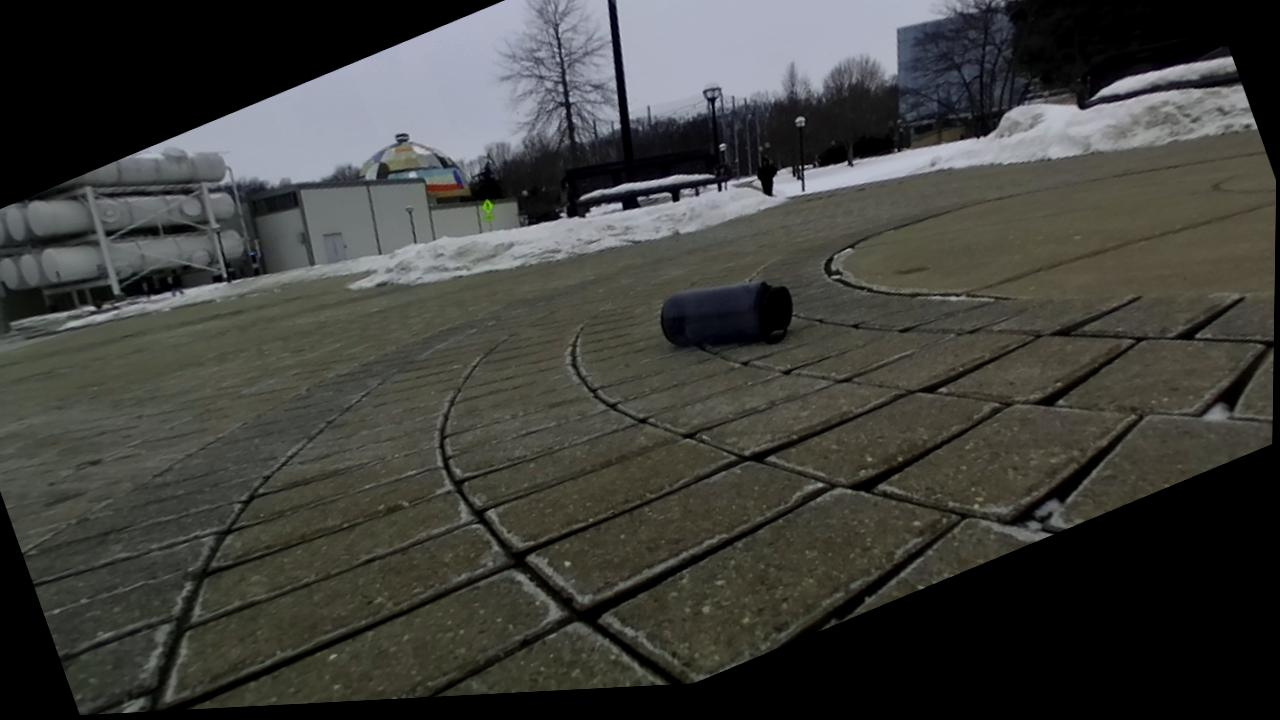bottle: (660, 282, 792, 346)
